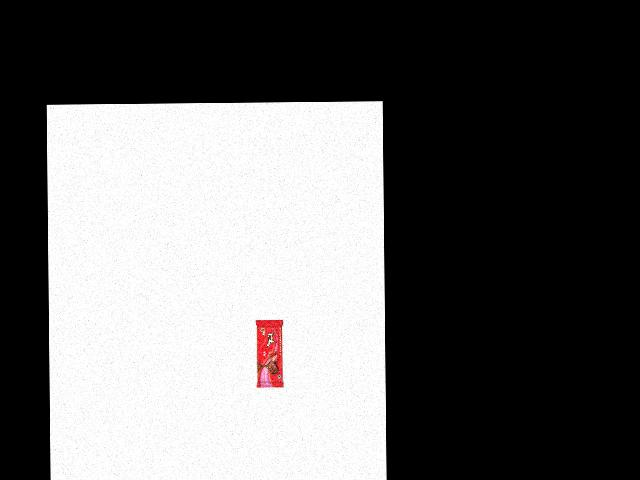chocolate: (256, 314, 288, 388)
